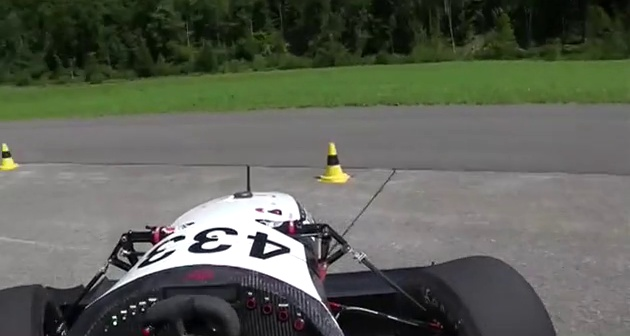Cone: (315, 140, 351, 187), (1, 136, 23, 173)
